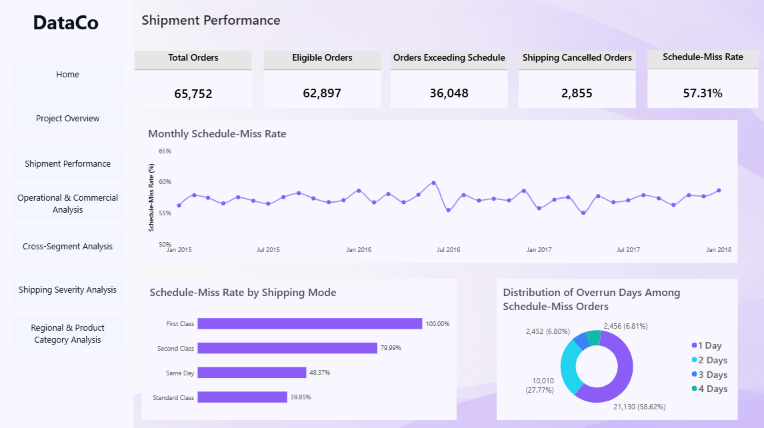

The dashboard page shown, as its layout file describes it:
{"tool":"powerbi","page":{"name":"Shipment Performance","canvas":[1920,1080],"ordinal":2},"visuals":[{"type":"cardVisual","title":"Total Orders","fields":{"Data":["agg_monthly_shipping_summary.Total Orders"]},"box":[345,132.5,292.5,142.5],"z":0},{"type":"cardVisual","title":"Eligible Orders","fields":{"Data":["agg_monthly_shipping_summary.Eligible Orders"]},"box":[667.5,132.5,292.5,142.5],"z":1000},{"type":"cardVisual","title":"Orders Exceeding Schedule","fields":{"Data":["Sum(agg_monthly_shipping_summary.orders_over_schedule)"]},"box":[985,132.5,292.5,142.5],"z":2000},{"type":"cardVisual","title":"Shipping Cancelled Orders","fields":{"Data":["agg_monthly_shipping_summary.Shipping Canceled Orders"]},"box":[1305,132.5,292.5,142.5],"z":3000},{"type":"cardVisual","title":"Schedule-Miss Rate","fields":{"Data":["agg_monthly_shipping_summary.Schedule-Miss Rate"]},"box":[1627.2,128.8,276.8,145.5],"z":4000},{"type":"lineChart","title":"Monthly Schedule-Miss Rate","fields":{"Category":["agg_monthly_shipping_summary.order_month.Variation.Date Hierarchy.Year","agg_monthly_shipping_summary.order_month.Variation.Date Hierarchy.Quarter","agg_monthly_shipping_summary.order_month.Variation.Date Hierarchy.Month","agg_monthly_shipping_summary.order_month.Variation.Date Hierarchy.Day"],"Y":["agg_monthly_shipping_summary.Monthly Schedule-Miss Rate"]},"box":[362.5,305,1490,357.5],"z":5000},{"type":"donutChart","title":"Distribution of Overrun Days Among Schedule-Miss Orders","fields":{"Category":["Shipping Severity.Severity Label"],"Y":["Sum(Shipping Severity.Total Orders)"]},"box":[1250,702.5,602.5,352.5],"z":6000},{"type":"clusteredBarChart","title":"Schedule-Miss Rate by Shipping Mode","fields":{"Category":["agg_shipping_mode_summary.shipping_mode"],"Y":["agg_shipping_mode_summary.Mode Schedule-Miss Rate"]},"box":[362.5,702.5,787.5,352.5],"z":7000},{"type":"shape","box":[0,0,342.5,1080],"z":8000},{"type":"shape","box":[36.6,146.4,280,85],"z":9000},{"type":"shape","box":[36.6,256.4,280,85],"z":10000},{"type":"shape","box":[36.6,683.9,280,85],"z":11000},{"type":"shape","box":[36.6,368.9,280,85],"z":12000},{"type":"shape","box":[36.6,468.9,280,85],"z":13000},{"type":"shape","box":[36.6,576.4,280,85],"z":14000},{"type":"shape","box":[75,0,195,117.5],"z":15000},{"type":"shape","title":"Shipment Performance","box":[362.5,30,550,60],"z":16000},{"type":"shape","box":[37.5,795,280,85],"z":16001}]}

Visuals, with their boxes on the page's 1920x1080 design canvas (x1, y1, x2, y2). These are canvas units, not pixel positions in the 764x428 screenshot, which may show the page scaled, cropped or inside an application window:
"Total Orders" cardVisual: 345:132:638:275
"Eligible Orders" cardVisual: 668:132:960:275
"Orders Exceeding Schedule" cardVisual: 985:132:1278:275
"Shipping Cancelled Orders" cardVisual: 1305:132:1598:275
"Schedule-Miss Rate" cardVisual: 1627:129:1904:274
"Monthly Schedule-Miss Rate" lineChart: 362:305:1852:662
"Distribution of Overrun Days Among Schedule-Miss Orders" donutChart: 1250:702:1852:1055
"Schedule-Miss Rate by Shipping Mode" clusteredBarChart: 362:702:1150:1055
shape: 0:0:342:1080
shape: 37:146:317:231
shape: 37:256:317:341
shape: 37:684:317:769
shape: 37:369:317:454
shape: 37:469:317:554
shape: 37:576:317:661
shape: 75:0:270:118
"Shipment Performance" shape: 362:30:912:90
shape: 38:795:318:880
